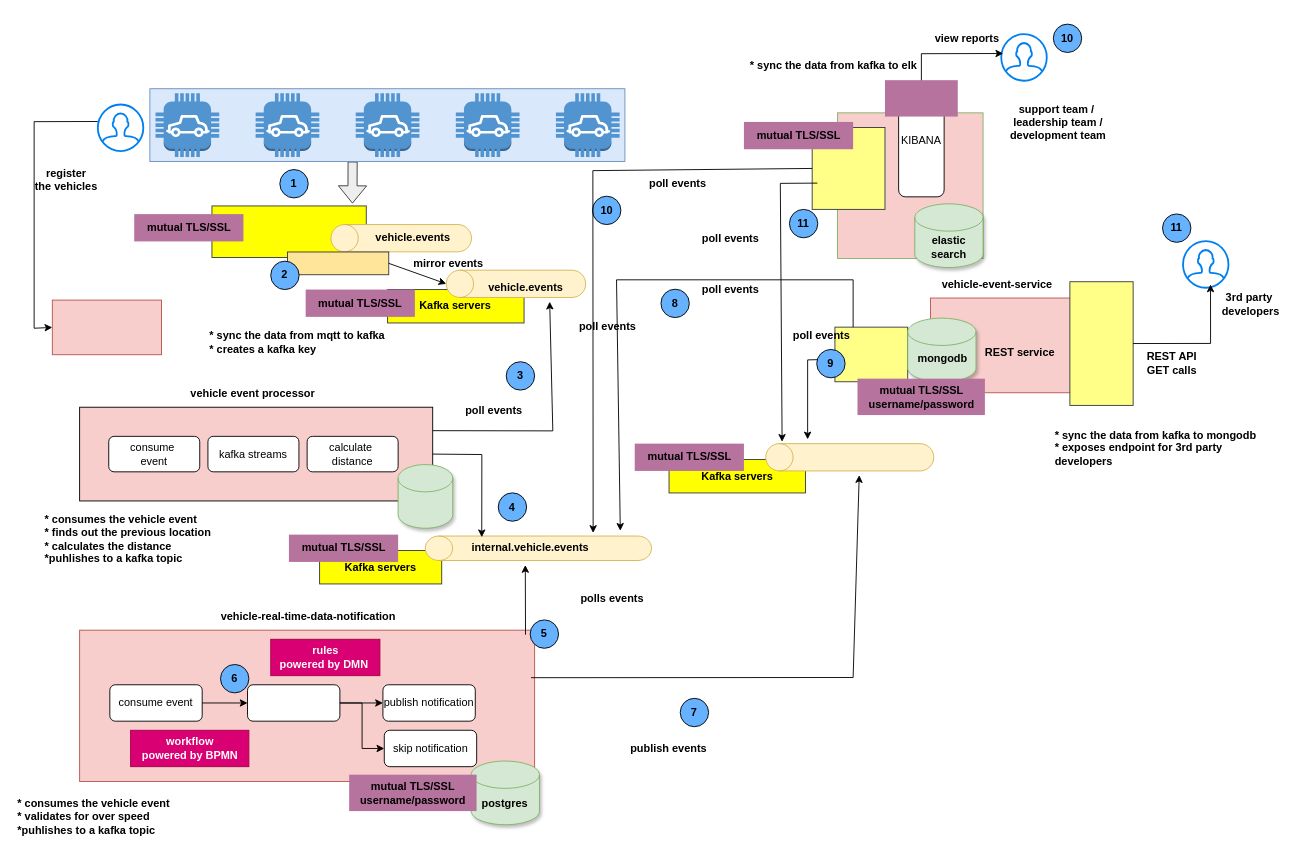
The diagram is 1305 pixels wide and 864 high, and some of its shapes have lost their labels. Here are the shapes that lost their labels. From the top down, the centre of each, then its label:
At point 921,98: "username/ password".
At point 848,168: "kafka connector".
At point 288,231: "MQTT servers".
At point 338,263: "kafka connect".
At point 106,327: "Vehicle Registration System".
At point 1101,343: "KONG API Gateway".
At point 871,354: "mongo connector".
At point 849,457: "overspeed notification".
At point 426,497: "rocks db".
At point 293,702: "execute rules for over speed".
